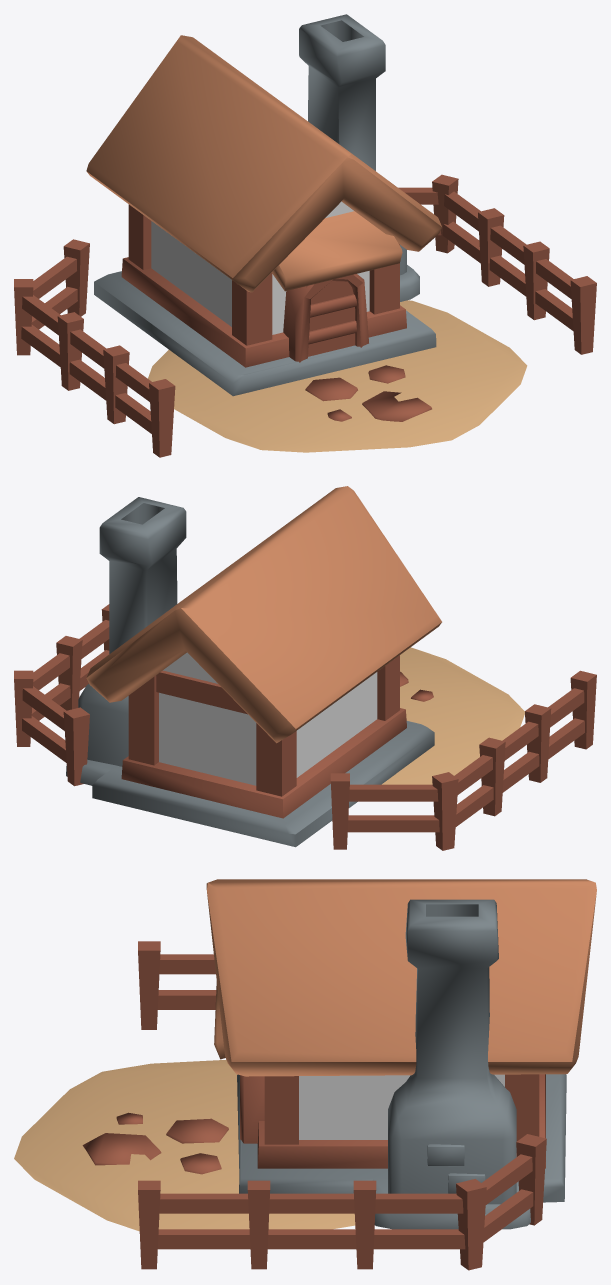
Rendered from home-gate.glb.
3 renders of one model, top to bottom at view 1: azimuth 30°, elevation 25°; view 2: azimuth 150°, elevation 25°; view 3: azimuth 270°, elevation 25°, orthographic. The views are drawn at different scales.
Visible parts, largest first — view 1: house; view 2: house; view 3: house.
Boxes of the visible parts, x1,y1,x2,y2 form: house: (14,14,596,457); house: (14,486,596,850); house: (14,879,596,1270).
Bounding box in the file's own units: 1.69 × 0.9138 × 1.65.
